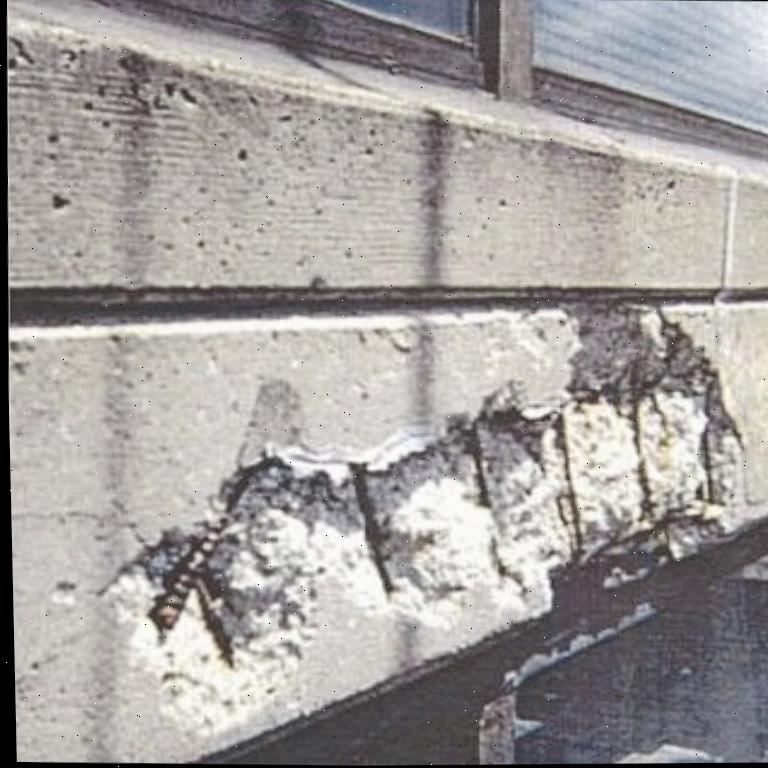exposed_rebar: (148, 526, 233, 667), (348, 462, 394, 596), (558, 413, 582, 562), (465, 419, 491, 507)
spalling: (104, 307, 743, 759)
